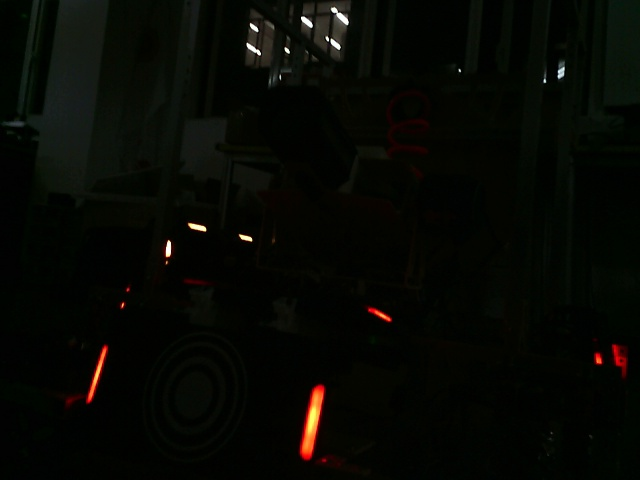lamp: (299, 382, 326, 461), (86, 341, 108, 408)
